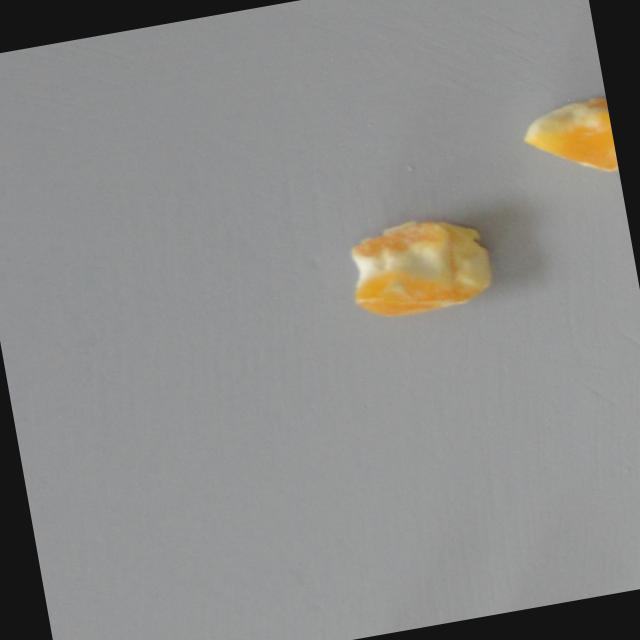pelicula: (345, 209, 498, 323), (518, 95, 618, 185)
